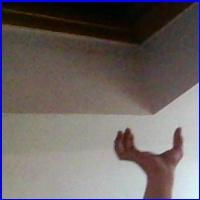space: (107, 122, 191, 175)
